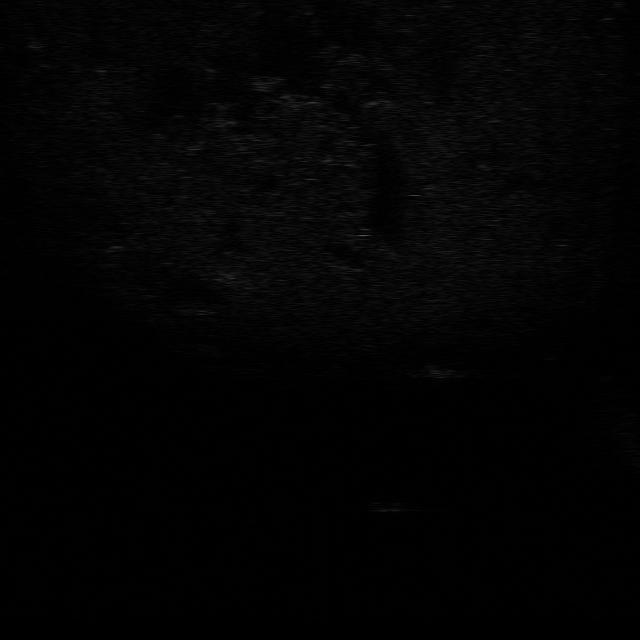cube: (366, 498, 412, 514)
square cage: (414, 360, 465, 380)
